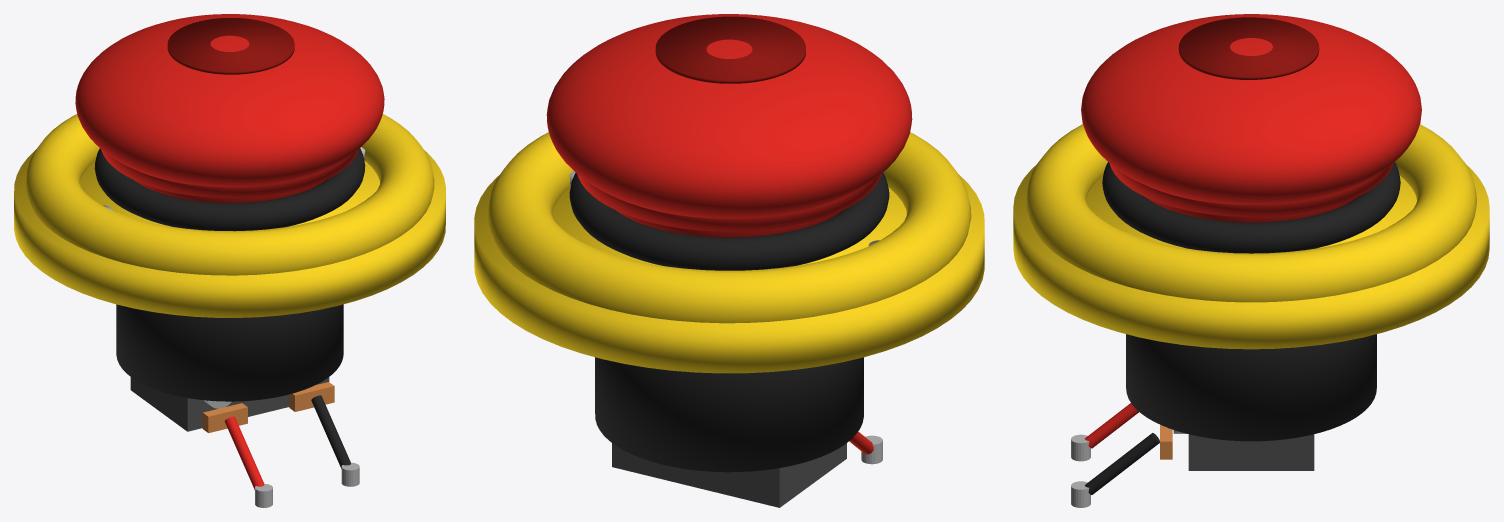
Rendered from EmergencyStop.glb.
3 renders of one model, left to right at view 1: azimuth 30°, elevation 25°; view 2: azimuth 150°, elevation 25°; view 3: azimuth 270°, elevation 25°, orthographic. The views are drawn at different scales.
Parts seen in each view (by area): view 1: EmergencyStop_RedButton, EmergencyStop_YellowRing, EmergencyStop_YellowBase, EmergencyStop_RearBody, EmergencyStop_BlackRing, EmergencyStop_ButtonCenter, EmergencyStop_ButtonLower, EmergencyStop_TerminalBody, EmergencyStop, EmergencyStop_BlackWire, EmergencyStop_RedNeck, EmergencyStop_RedWire; view 2: EmergencyStop_RedButton, EmergencyStop_YellowRing, EmergencyStop_YellowBase, EmergencyStop_RearBody, EmergencyStop_BlackRing, EmergencyStop_ButtonCenter, EmergencyStop_TerminalBody, EmergencyStop_ButtonLower, EmergencyStop_RedNeck; view 3: EmergencyStop_RedButton, EmergencyStop_YellowRing, EmergencyStop_YellowBase, EmergencyStop_RearBody, EmergencyStop_BlackRing, EmergencyStop_ButtonCenter, EmergencyStop_TerminalBody, EmergencyStop_ButtonLower, EmergencyStop_BlackWire, EmergencyStop_RedNeck, EmergencyStop_RedWire.
Boxes of the visible parts, x1,y1,x2,y2 form: EmergencyStop_RedButton: [75, 14, 384, 187]; EmergencyStop_YellowRing: [25, 114, 434, 275]; EmergencyStop_YellowBase: [14, 150, 445, 317]; EmergencyStop_RearBody: [116, 304, 343, 401]; EmergencyStop_BlackRing: [94, 148, 365, 231]; EmergencyStop_ButtonCenter: [167, 18, 294, 74]; EmergencyStop_ButtonLower: [101, 149, 358, 197]; EmergencyStop_TerminalBody: [130, 377, 329, 431]; EmergencyStop: [202, 382, 334, 433]; EmergencyStop_BlackWire: [311, 395, 350, 468]; EmergencyStop_RedNeck: [134, 180, 325, 203]; EmergencyStop_RedWire: [224, 416, 264, 489]; EmergencyStop_RedButton: [546, 14, 912, 218]; EmergencyStop_YellowRing: [487, 132, 971, 323]; EmergencyStop_YellowBase: [474, 175, 984, 373]; EmergencyStop_RearBody: [595, 357, 863, 472]; EmergencyStop_BlackRing: [569, 173, 889, 270]; EmergencyStop_ButtonCenter: [655, 16, 805, 83]; EmergencyStop_TerminalBody: [612, 443, 846, 507]; EmergencyStop_ButtonLower: [577, 174, 881, 231]; EmergencyStop_RedNeck: [616, 210, 842, 237]; EmergencyStop_RedButton: [1081, 14, 1421, 204]; EmergencyStop_YellowRing: [1026, 124, 1476, 302]; EmergencyStop_YellowBase: [1013, 164, 1489, 349]; EmergencyStop_RearBody: [1126, 334, 1376, 441]; EmergencyStop_BlackRing: [1102, 162, 1400, 253]; EmergencyStop_ButtonCenter: [1178, 17, 1319, 79]; EmergencyStop_TerminalBody: [1188, 434, 1314, 470]; EmergencyStop_ButtonLower: [1109, 163, 1393, 216]; EmergencyStop_BlackWire: [1085, 433, 1159, 494]; EmergencyStop_RedNeck: [1146, 197, 1356, 222]; EmergencyStop_RedWire: [1085, 403, 1138, 448].
Bounding box in the file's own units: 1.9 × 1.91 × 1.9.
